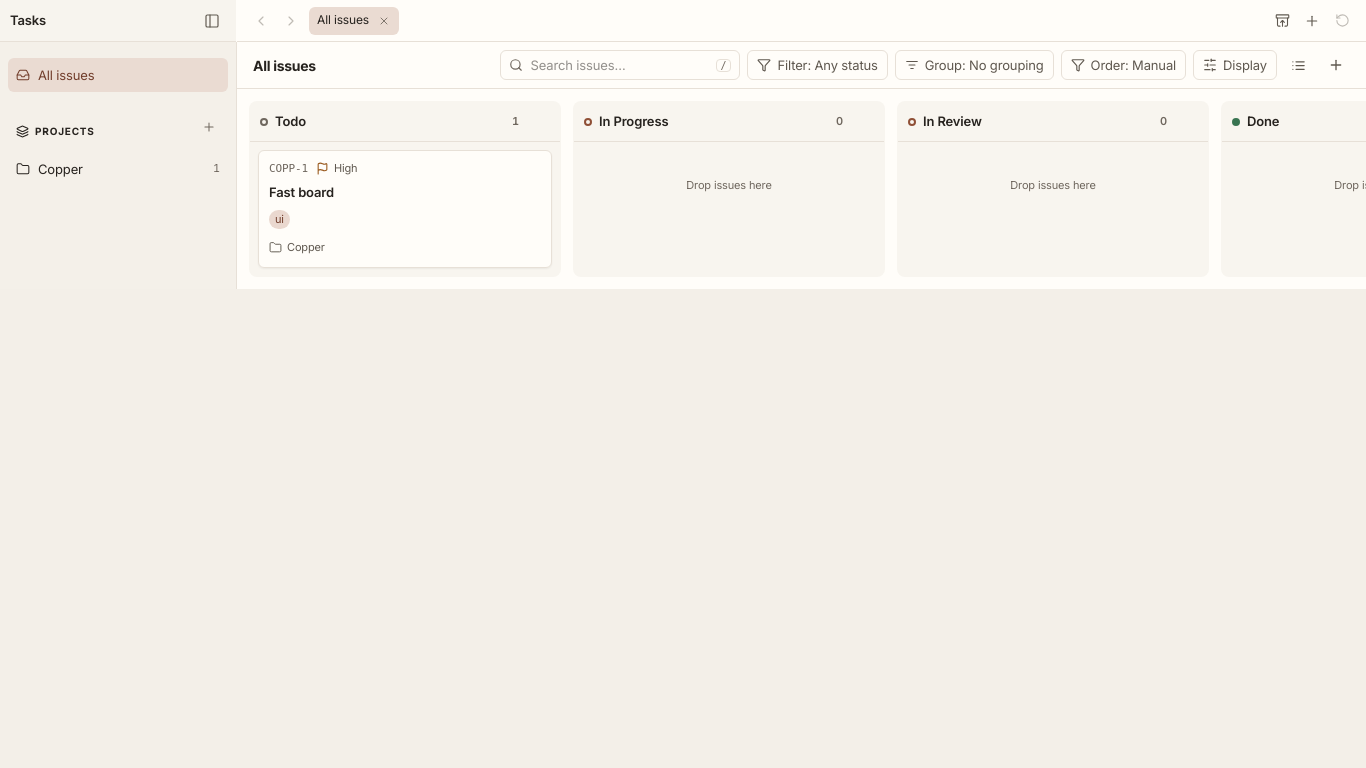
Test case: TasksWorkspace › opens project actions from the shared right-click menu
Right-click the button "Copper 1": (118, 169) [8,152,228,186]
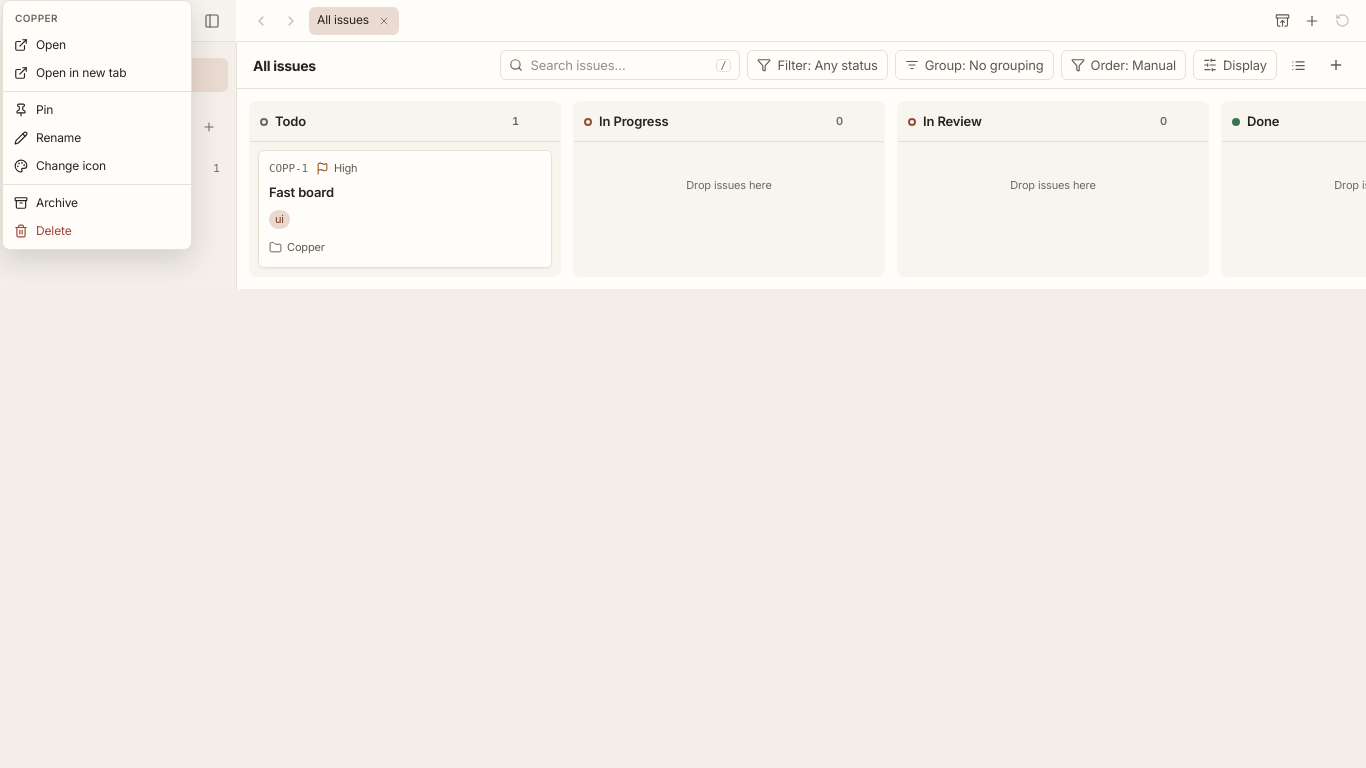
Expected: the menu item "Change icon" is shown, [14,158,106,173]
Click the menu item "Rename": (48, 137) [14,130,81,145]
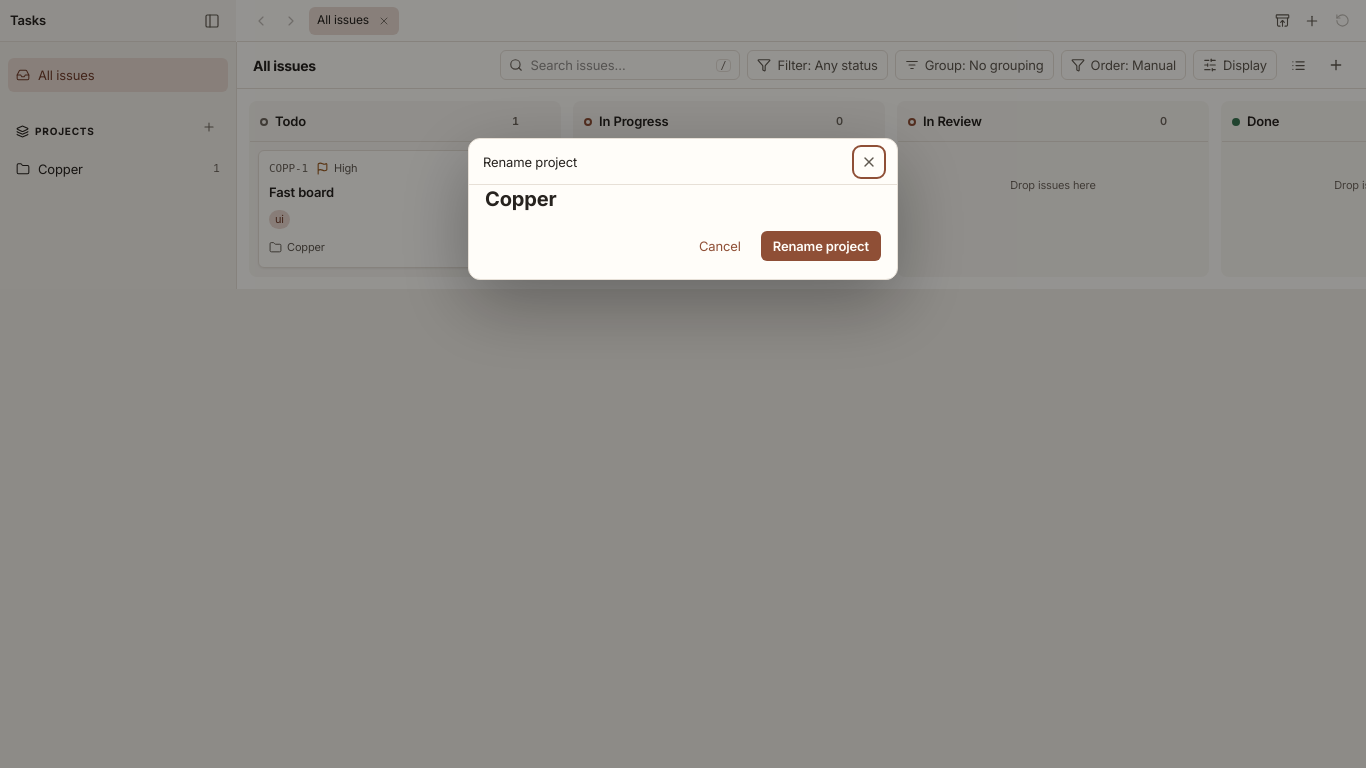
Expected: the dialog "Rename project" is shown, [468,138,898,280]
